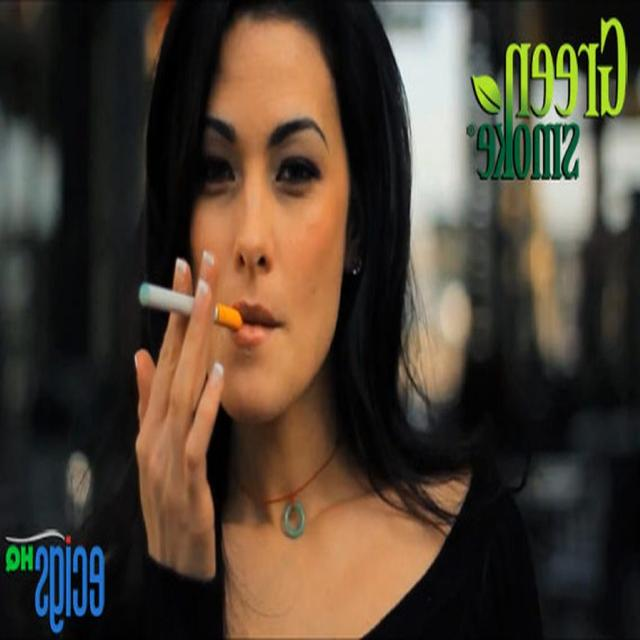smoking: (130, 2, 415, 563)
